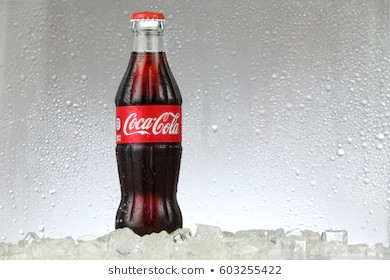coke-glass-bottle: (109, 7, 185, 236)
